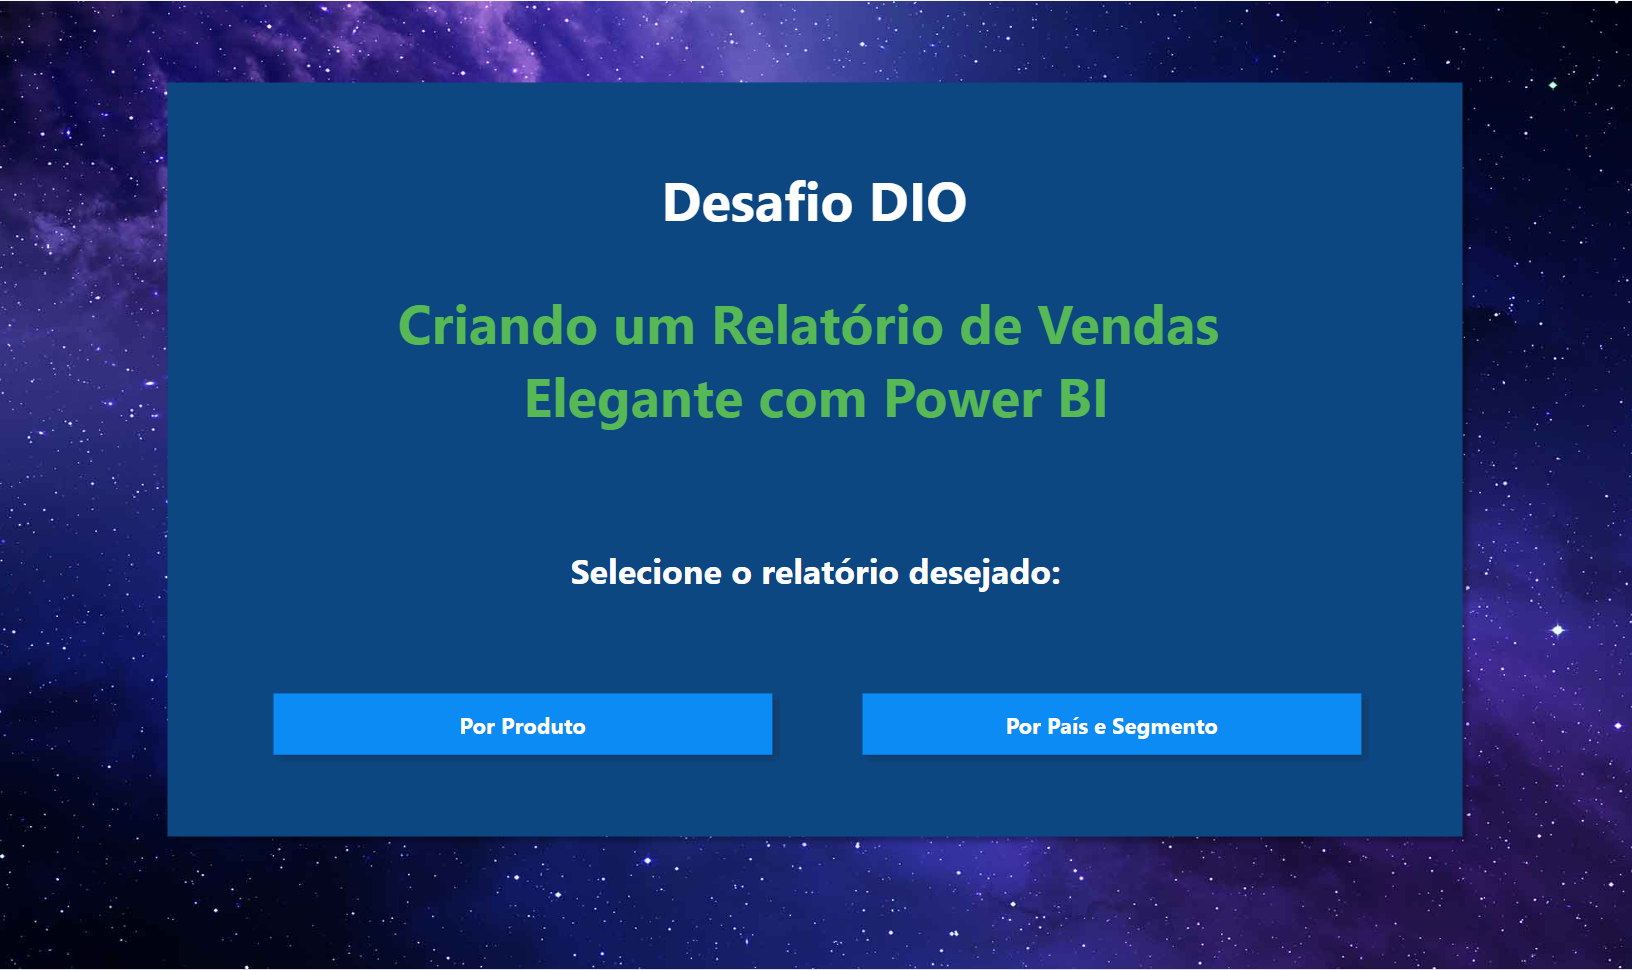

The dashboard page shown, as its layout file describes it:
{"tool":"powerbi","page":{"name":"Home","canvas":[1280,720],"ordinal":0},"visuals":[{"type":"shape","box":[122.7,55.1,1033.4,609],"z":0},{"type":"textbox","box":[131.9,121.6,1015.1,67.7],"z":1000},{"type":"textbox","box":[247.7,217.9,785.7,138.8],"z":2000},{"type":"textbox","box":[247.7,423.2,784.5,52.8],"z":3000},{"type":"actionButton","box":[667.5,533.8,408.8,66.2],"z":4001},{"type":"actionButton","box":[206.2,533.8,408.8,66.2],"z":4002}]}

Visuals, with their boxes on the page's 1280x720 design canvas (x1, y1, x2, y2). These are canvas units, not pixel positions in the 1632x970 screenshot, which may show the page scaled, cropped or inside an application window:
shape: region(123, 55, 1156, 664)
textbox: region(132, 122, 1147, 189)
textbox: region(248, 218, 1033, 357)
textbox: region(248, 423, 1032, 476)
actionButton: region(668, 534, 1076, 600)
actionButton: region(206, 534, 615, 600)
